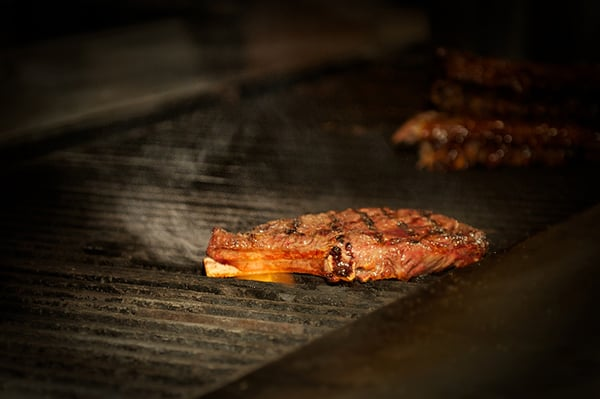curry: (1, 20, 595, 394)
sandwich: (203, 206, 490, 285)
